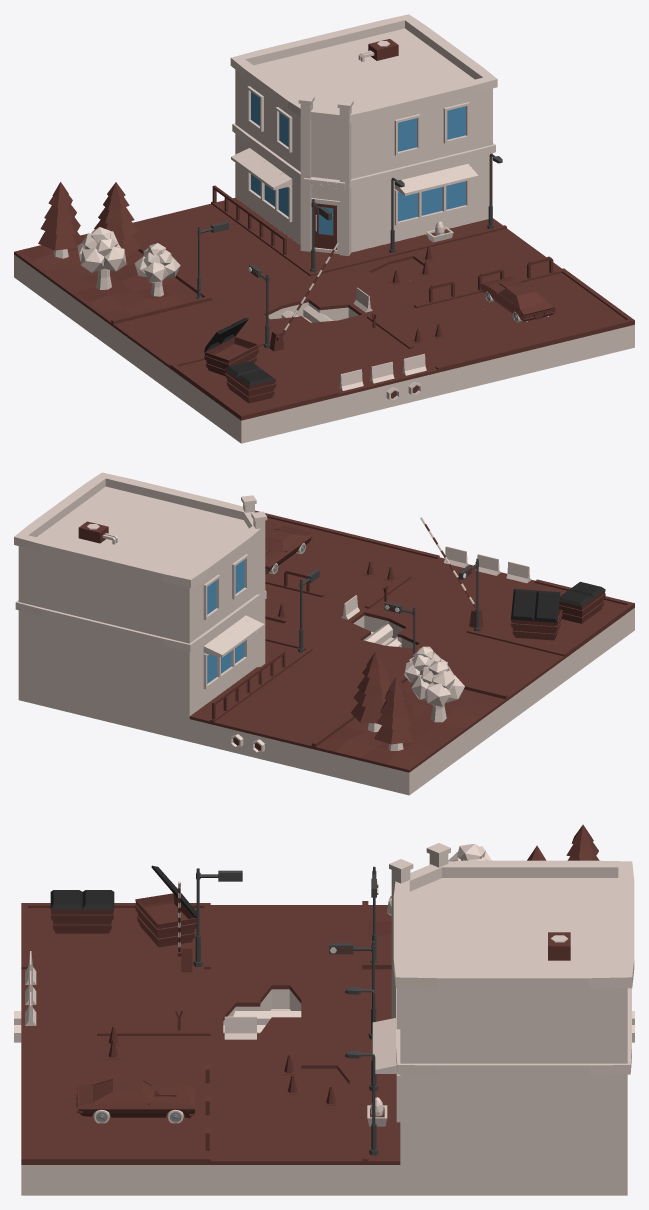
File: Low_Poly_City_Diorama_Scene.glb
3 views of the same model, one above another, from view 1: azimuth 30°, elevation 25°; view 2: azimuth 150°, elevation 25°; view 3: azimuth 270°, elevation 25° (orthographic). The views are drawn at different scales.
Parts seen in each view (by area): view 1: unnamed (×20); view 2: unnamed (×21); view 3: unnamed (×24).
Boxes of the visible parts, box(x1,y1,x2,y2) form: unnamed (×20): box(14, 14, 634, 443); unnamed (×21): box(14, 472, 634, 795); unnamed (×24): box(14, 824, 634, 1195).
Size of the model in its own units: 30.32 by 12.87 by 30.72.
